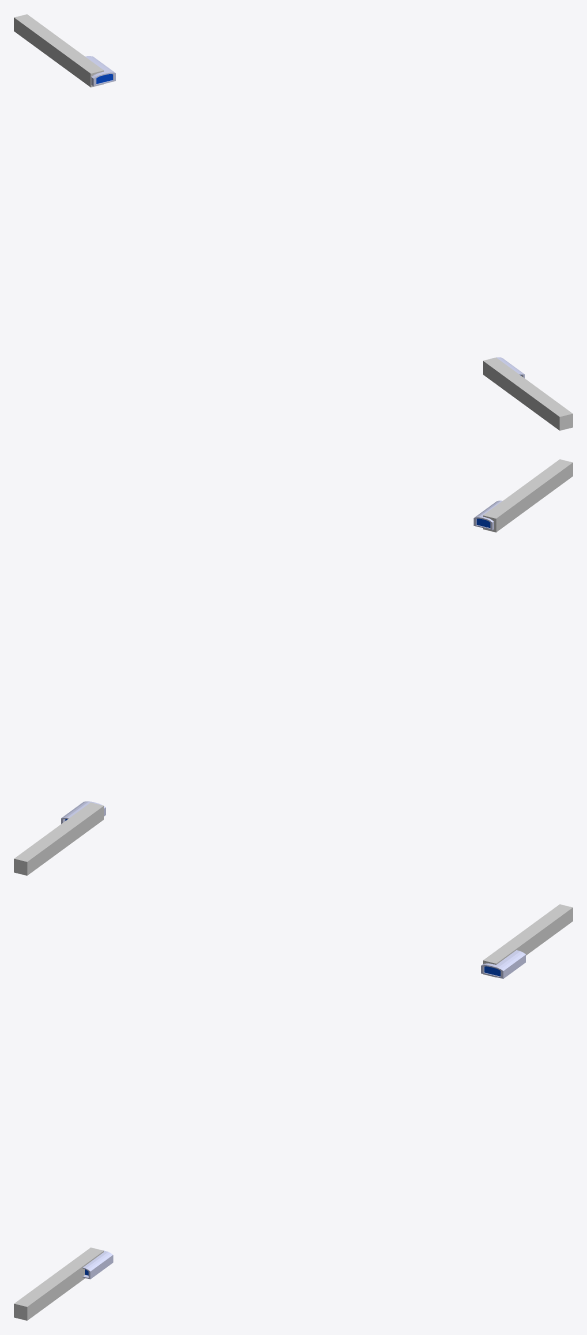
File: Train.glb
3 views of the same model, one above another, from view 1: azimuth 30°, elevation 25°; view 2: azimuth 150°, elevation 25°; view 3: azimuth 330°, elevation 25° (orthographic).
Visible parts, largest first — view 1: ClipExit, ClipEnter; view 2: ClipEnter, ClipExit; view 3: ClipExit, ClipEnter, GateEnter.
Boxes of the visible parts, x1,y1,x2,y2 form: ClipExit: (483, 357, 572, 430); ClipEnter: (14, 14, 103, 87); ClipEnter: (14, 802, 103, 875); ClipExit: (483, 459, 572, 532); ClipExit: (14, 1247, 103, 1320); ClipEnter: (483, 904, 572, 977); GateEnter: (481, 950, 525, 978).
Bounding box in the file's own units: 4.62 × 2.68 × 192.
